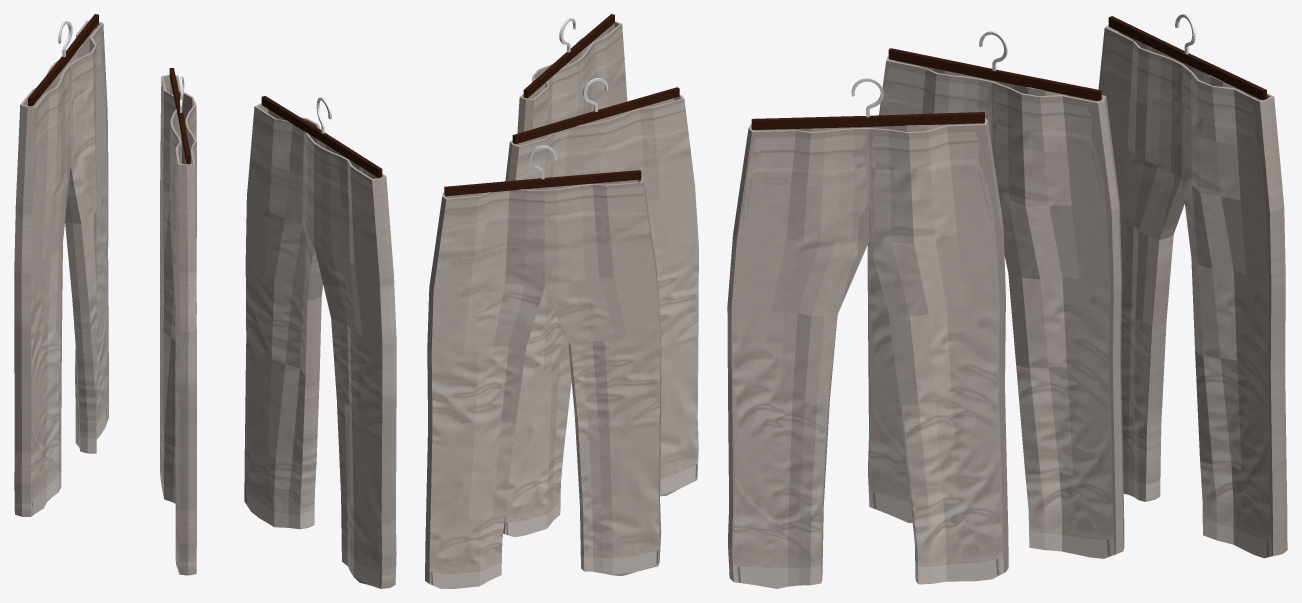
File: chinocream1.glb
3 renders of one model, left to right at view 1: azimuth 30°, elevation 25°; view 2: azimuth 150°, elevation 25°; view 3: azimuth 270°, elevation 25°, orthographic. The views are drawn at different scales.
Parts seen in each view (by area): view 1: Plane.336; view 2: Plane.336; view 3: Plane.336.
Part boxes in pixels (x1,y1,x2,y2): Plane.336: [14, 14, 396, 588]; Plane.336: [425, 14, 698, 588]; Plane.336: [727, 14, 1287, 588].
Size of the model in its own units: 0.2355 by 0.4706 by 0.4731.
Materials: 3 (3 with a texture image).
